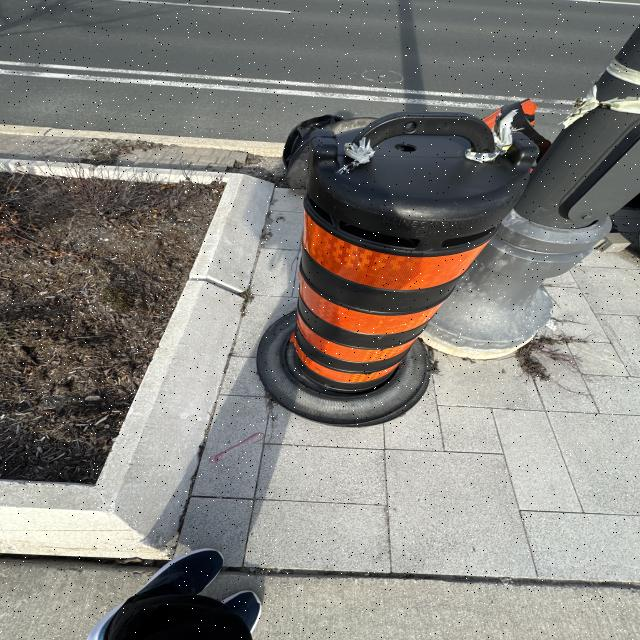Teraffic Barrel: (258, 113, 538, 426)
